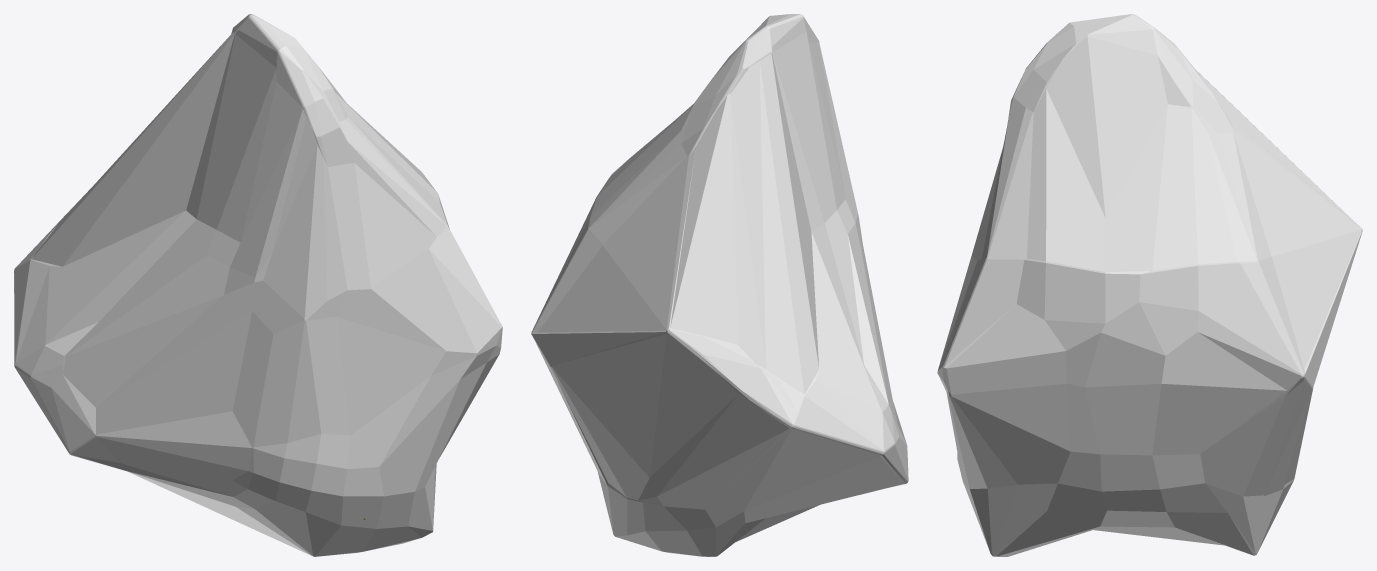
File: Pikachu.fbx
The picture shows the model from 3 angles, left to right: view 1: azimuth 30°, elevation 25°; view 2: azimuth 150°, elevation 25°; view 3: azimuth 270°, elevation 25°; orthographic projection. The views are drawn at different scales.
Visible parts, largest first — view 1: Pickachu; view 2: Pickachu; view 3: Pickachu.
Boxes of the visible parts, left/top/right/bottom form: Pickachu: left=14, top=14, right=502, bottom=556; Pickachu: left=531, top=14, right=908, bottom=556; Pickachu: left=937, top=14, right=1362, bottom=556.
Size of the model in its own units: 75.33 by 105 by 80.36.
